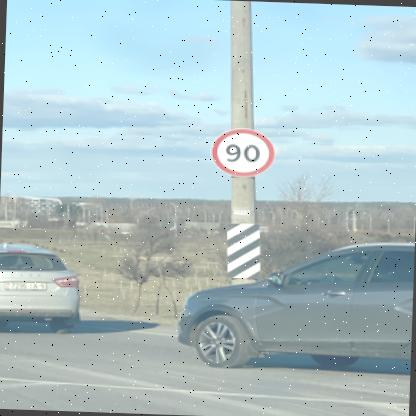speedlimit: (209, 126, 274, 176)
